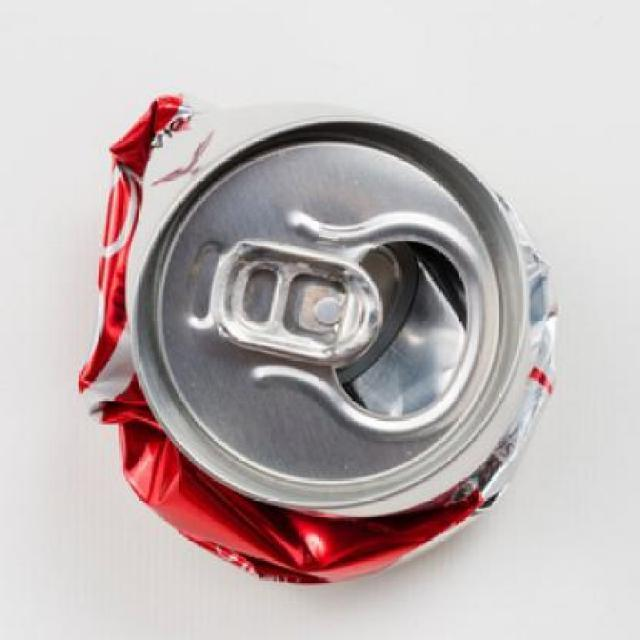can: (56, 81, 590, 606)
